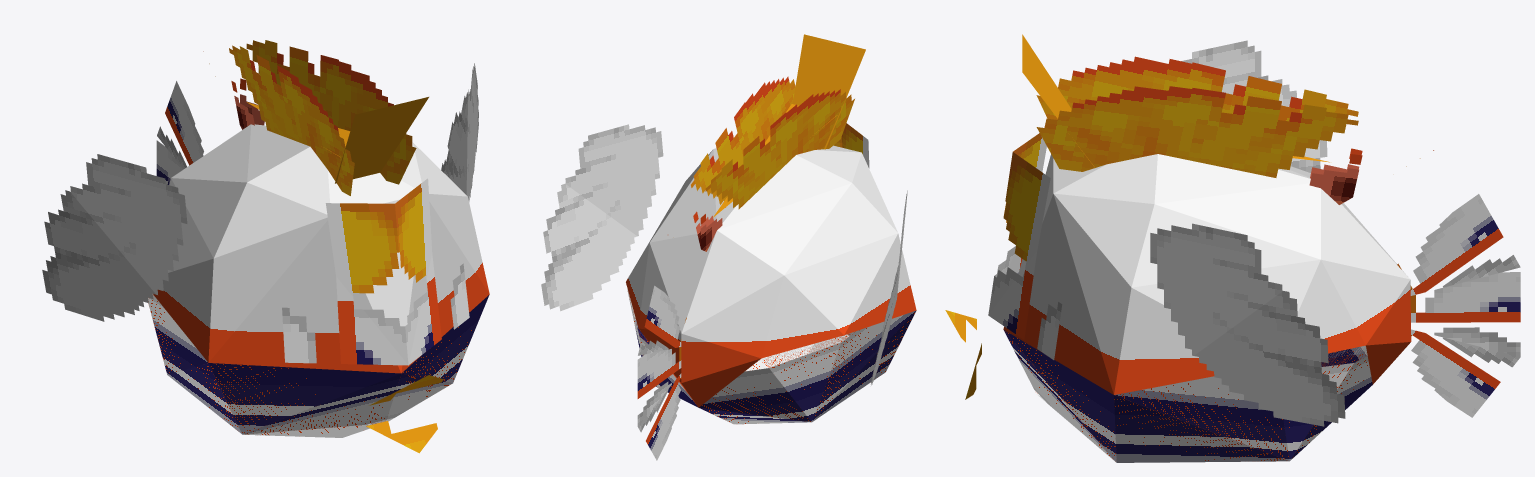
File: pukupuku.obj
The picture shows the model from 3 angles, left to right: view 1: azimuth 30°, elevation 25°; view 2: azimuth 150°, elevation 25°; view 3: azimuth 270°, elevation 25°; orthographic projection. The views are drawn at different scales.
Parts seen in each view (by area): view 1: skl_root, arm_R, tail, armL; view 2: skl_root, armL, tail, arm_R; view 3: skl_root, tail, armL, arm_R.
Part boxes in pixels (<box>): skl_root: <box>70,40,489,453</box>; arm_R: <box>42,190,155,321</box>; tail: <box>156,81,203,184</box>; armL: <box>466,63,478,201</box>; skl_root: <box>541,34,916,460</box>; armL: <box>565,124,663,236</box>; tail: <box>637,243,760,426</box>; arm_R: <box>871,265,898,385</box>; skl_root: <box>945,34,1520,462</box>; tail: <box>1321,194,1520,356</box>; armL: <box>1150,223,1282,355</box>; arm_R: <box>1279,84,1327,172</box>.
Size of the model in its own units: 20 by 16.13 by 20.71.
2 materials, 2 textured.
